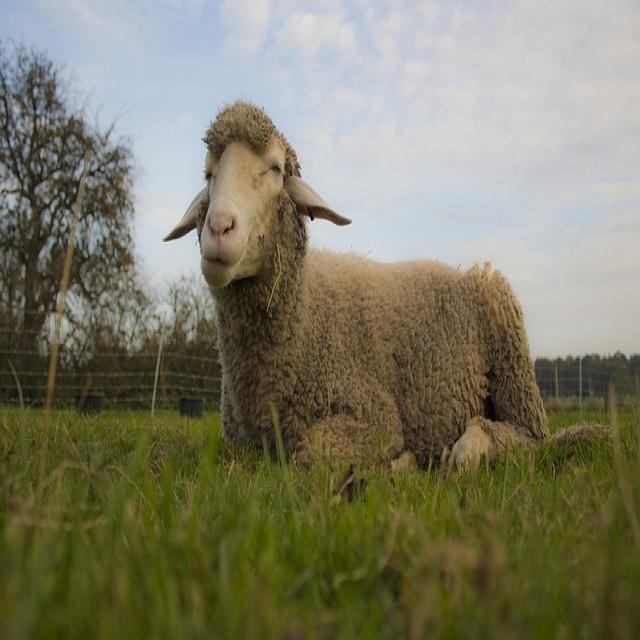goat: (168, 102, 549, 472)
